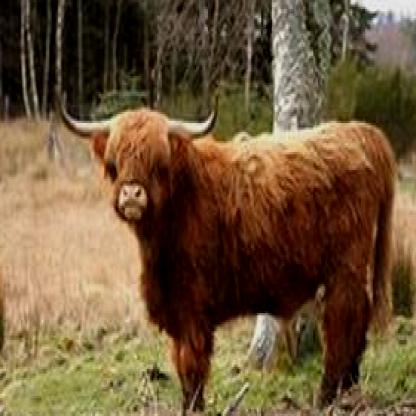cow: (59, 89, 397, 414)
